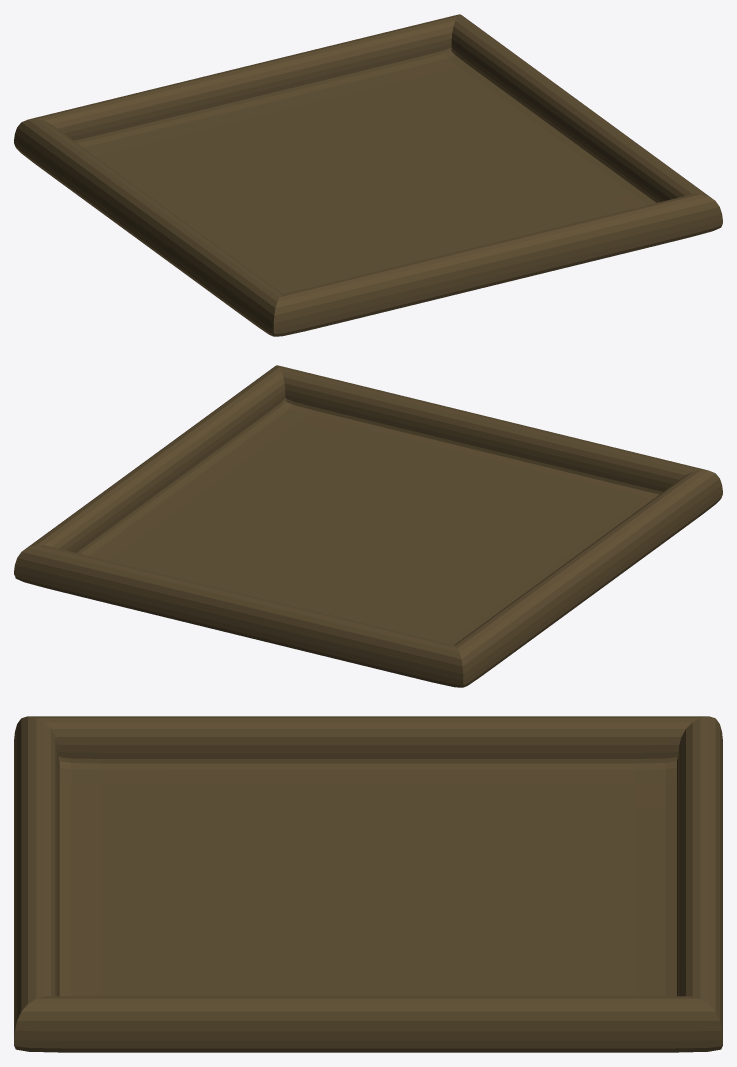
Rendered from Plate_Down.fbx.
The picture shows the model from 3 angles, top to bottom: view 1: azimuth 30°, elevation 25°; view 2: azimuth 150°, elevation 25°; view 3: azimuth 270°, elevation 25°; orthographic projection. The views are drawn at different scales.
Visible parts, largest first — view 1: Cube.001; view 2: Cube.001; view 3: Cube.001.
Boxes of the visible parts, x1=… form: Cube.001: x1=14, y1=14, x2=722, y2=336; Cube.001: x1=14, y1=365, x2=722, y2=687; Cube.001: x1=14, y1=716, x2=722, y2=1052.
Bounding box in the file's own units: 219 × 16.71 × 219.
